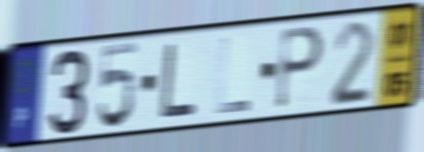2: (330, 18, 374, 109)
3: (45, 45, 92, 139)
5: (95, 39, 140, 133)
L: (158, 40, 200, 122), (214, 34, 252, 117)
P: (273, 25, 326, 112)
